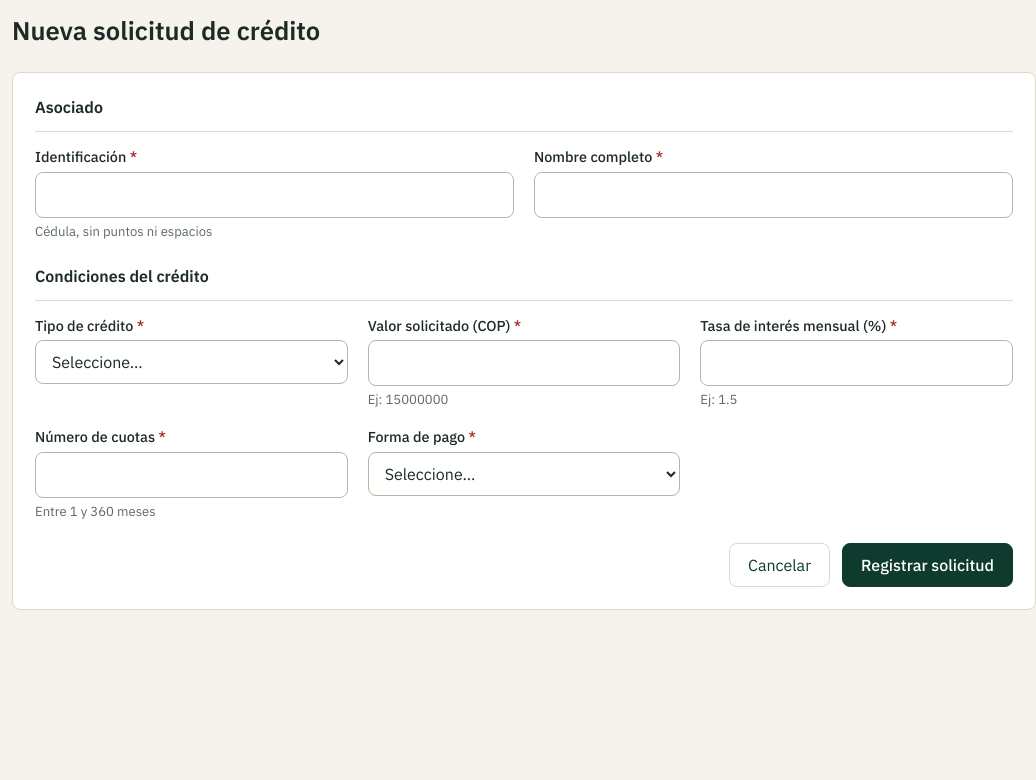
crear solicitud › muestra los errores de cada campo y no envía nada
Click the button "Registrar solicitud": (928, 565) [842,543,1013,587]
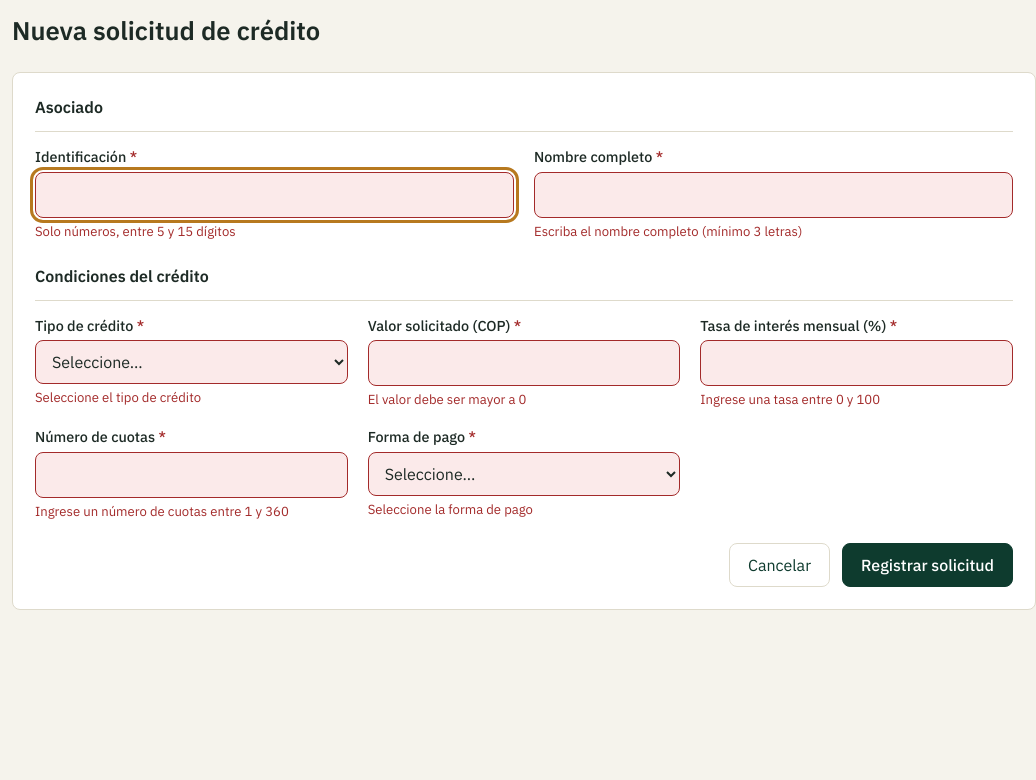
Expected: the text "Solo números, entre 5 y 15 dígitos" is shown, [35,223,236,240]
Expected: the text "El valor debe ser mayor a 0" is shown, [368,391,526,408]
Expected: the text "Seleccione el tipo de crédito" is shown, [35,389,201,406]
